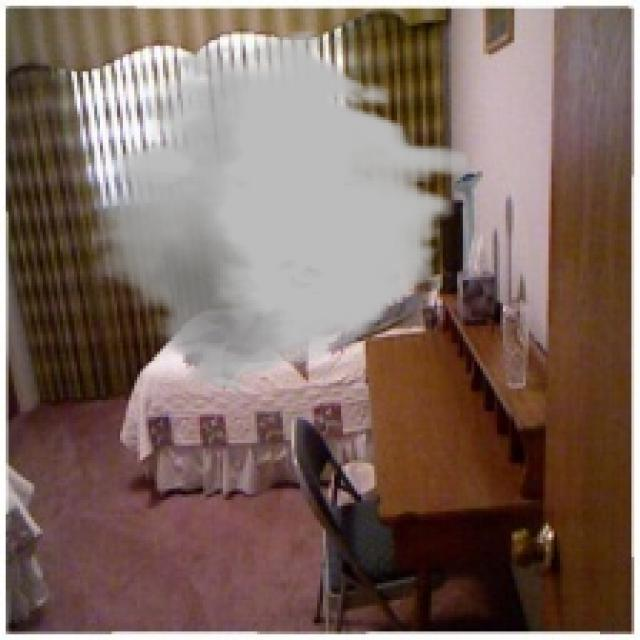smoke: (91, 29, 468, 392)
